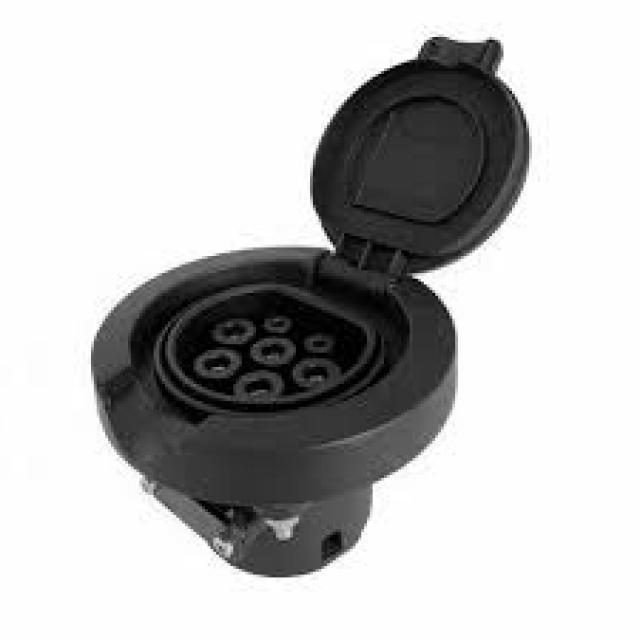Type 2: (141, 273, 388, 449)
